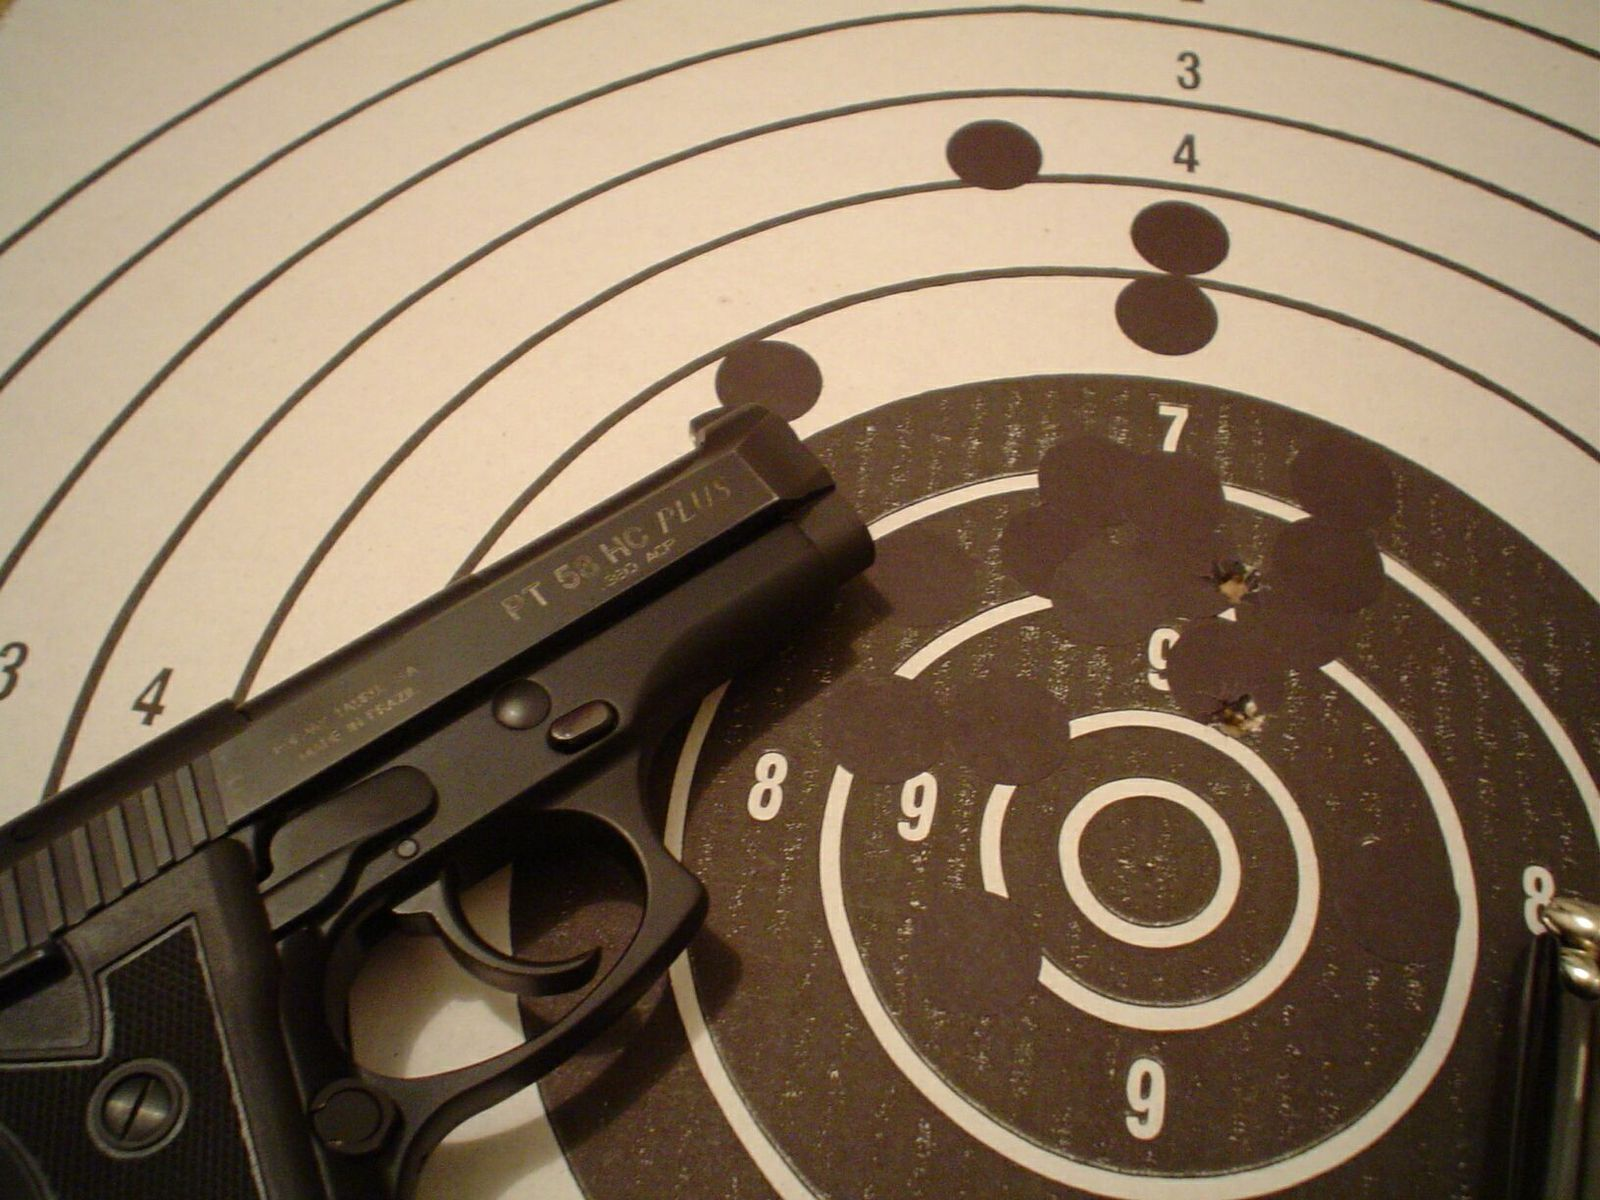gun: (0, 402, 866, 1200)
